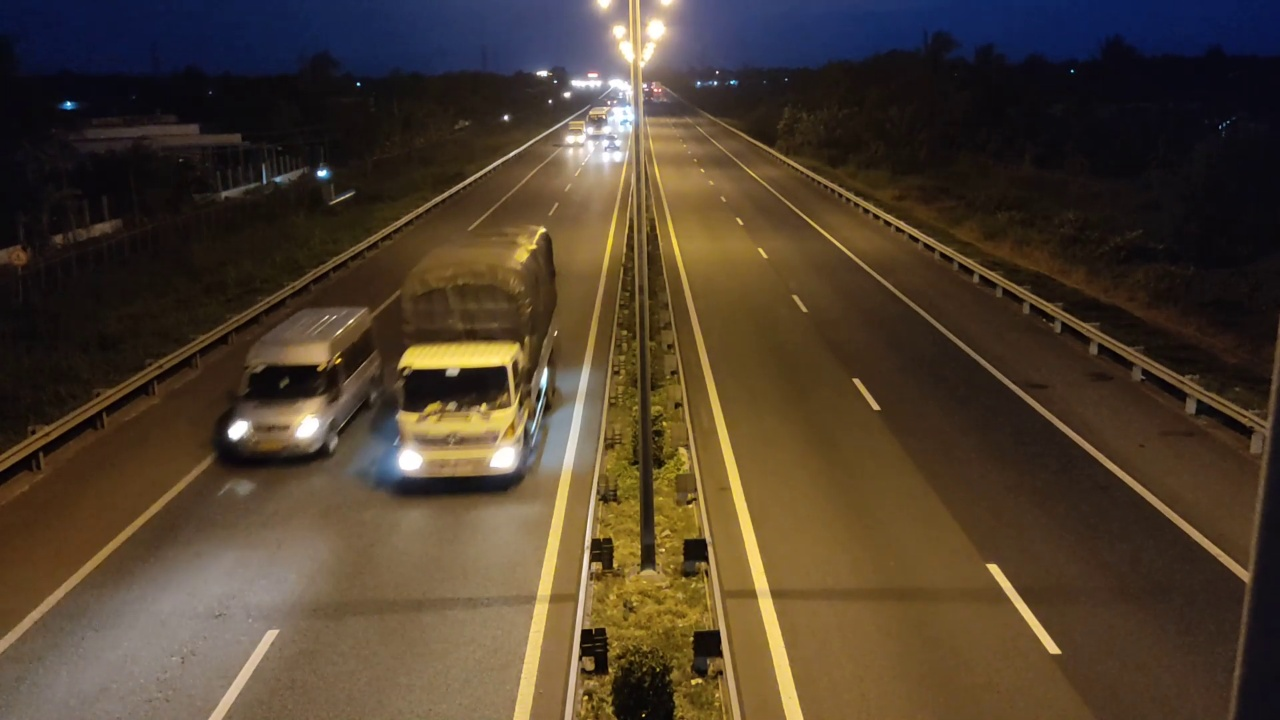car: (212, 305, 387, 467)
truck: (392, 223, 560, 493)
